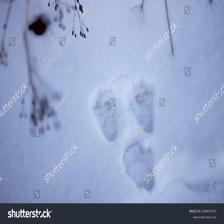rabbit: (124, 77, 161, 136), (121, 138, 158, 196)
